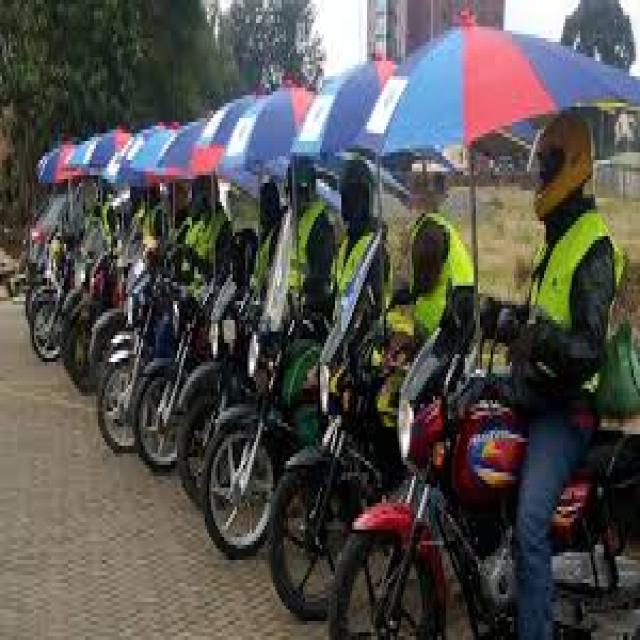bodaboda: (315, 282, 640, 640)
